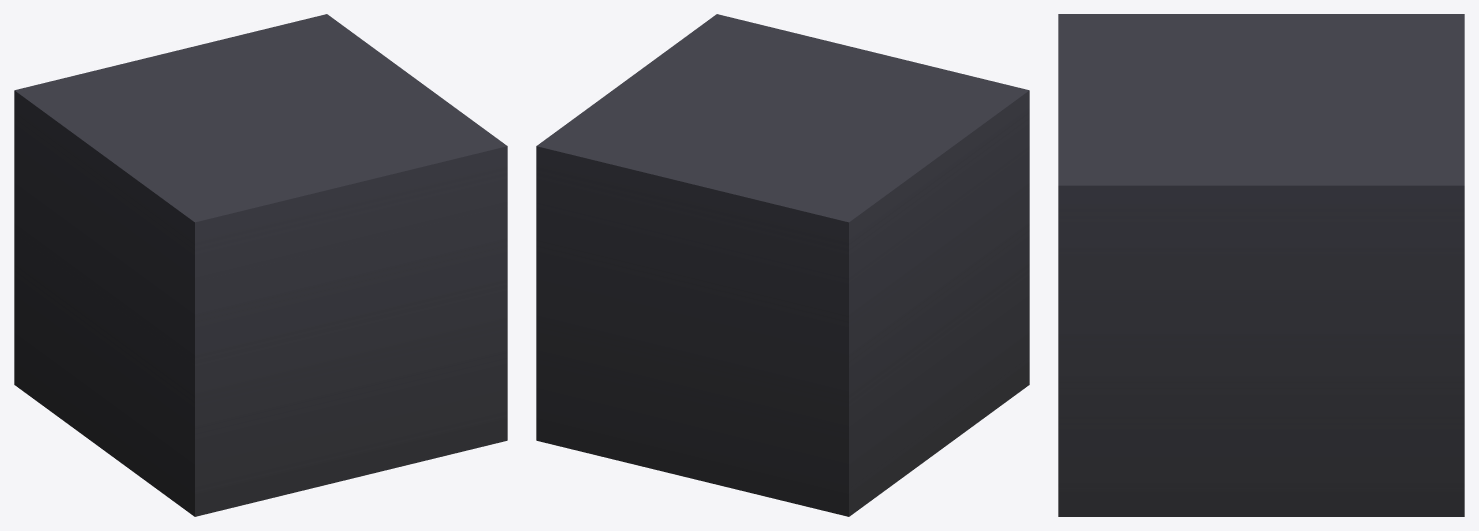
3 views of the same model, side by side, from view 1: azimuth 30°, elevation 25°; view 2: azimuth 150°, elevation 25°; view 3: azimuth 270°, elevation 25° (orthographic). The views are drawn at different scales.
Visible parts, largest first — view 1: dirt; view 2: dirt; view 3: dirt.
Boxes of the visible parts, box(x1,y1,x2,y2) form: dirt: box(14, 14, 507, 516); dirt: box(536, 14, 1029, 516); dirt: box(1058, 14, 1464, 516).
Bounding box in the file's own units: 1 × 0.9 × 1.
Materials: 1 (1 with a texture image).
